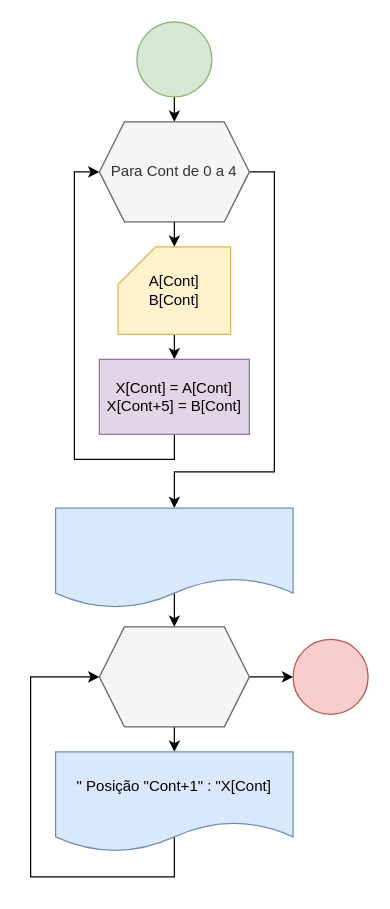
Image size: 390x909. Some labels were removed from this diagram. The centre of each missing label's shape, as x and y in pixels:
" ***** UNIÃO DE A E B ***** ": point (173, 557)
Para Cont de 0 a 9: point (173, 676)
